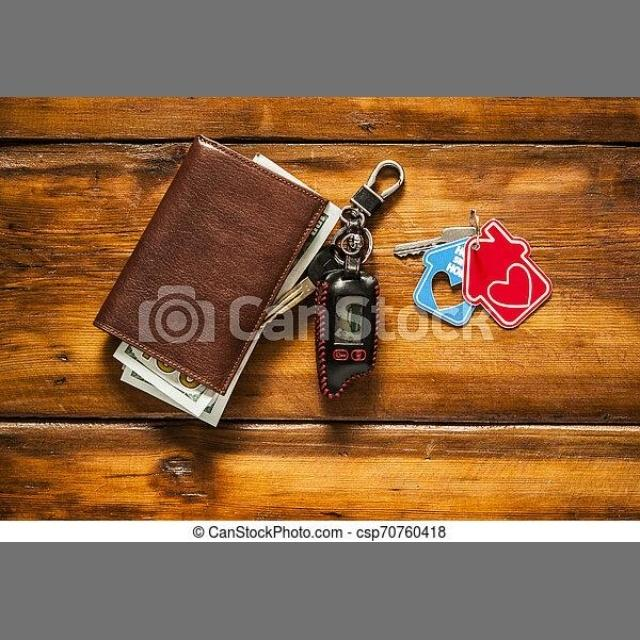Wallet: (98, 112, 334, 444)
